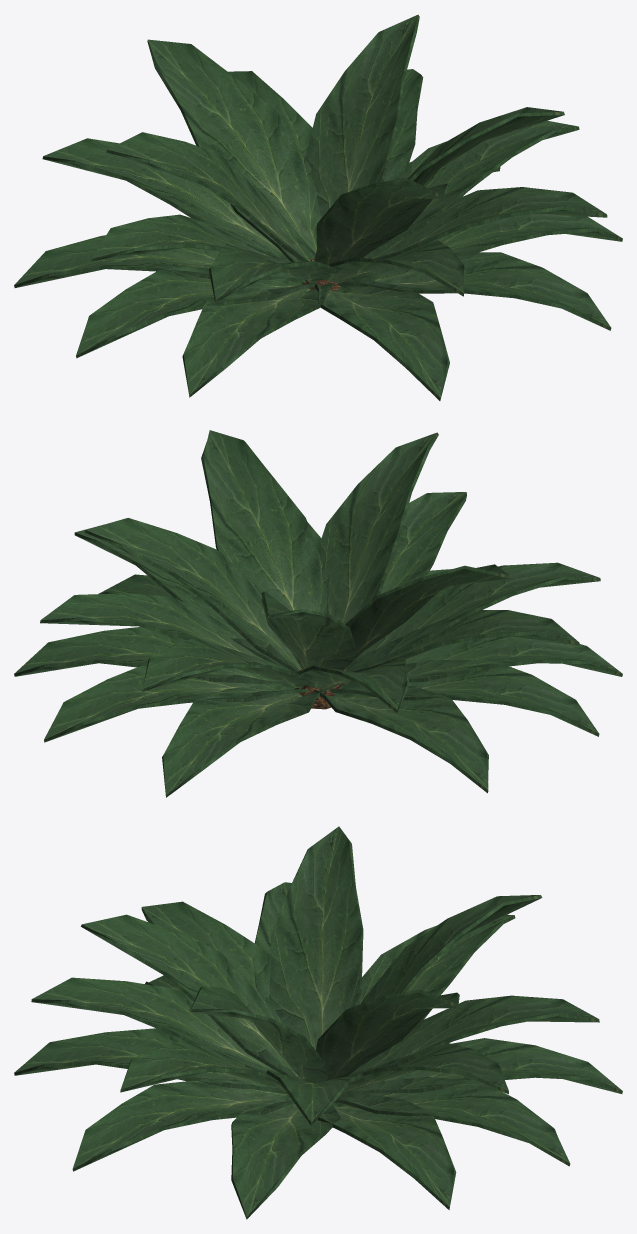
File: ShallowPlant.FBX
3 views of the same model, one above another, from view 1: azimuth 30°, elevation 25°; view 2: azimuth 150°, elevation 25°; view 3: azimuth 270°, elevation 25° (orthographic). The views are drawn at different scales.
Parts seen in each view (by area): view 1: Trunk; view 2: Trunk; view 3: Trunk.
Part boxes in pixels (<box>): Trunk: <box>14,14,622,400</box>; Trunk: <box>14,430,622,797</box>; Trunk: <box>14,826,622,1219</box>.
Size of the model in its own units: 174 by 58.95 by 176.
Materials: 2 (2 with a texture image).
